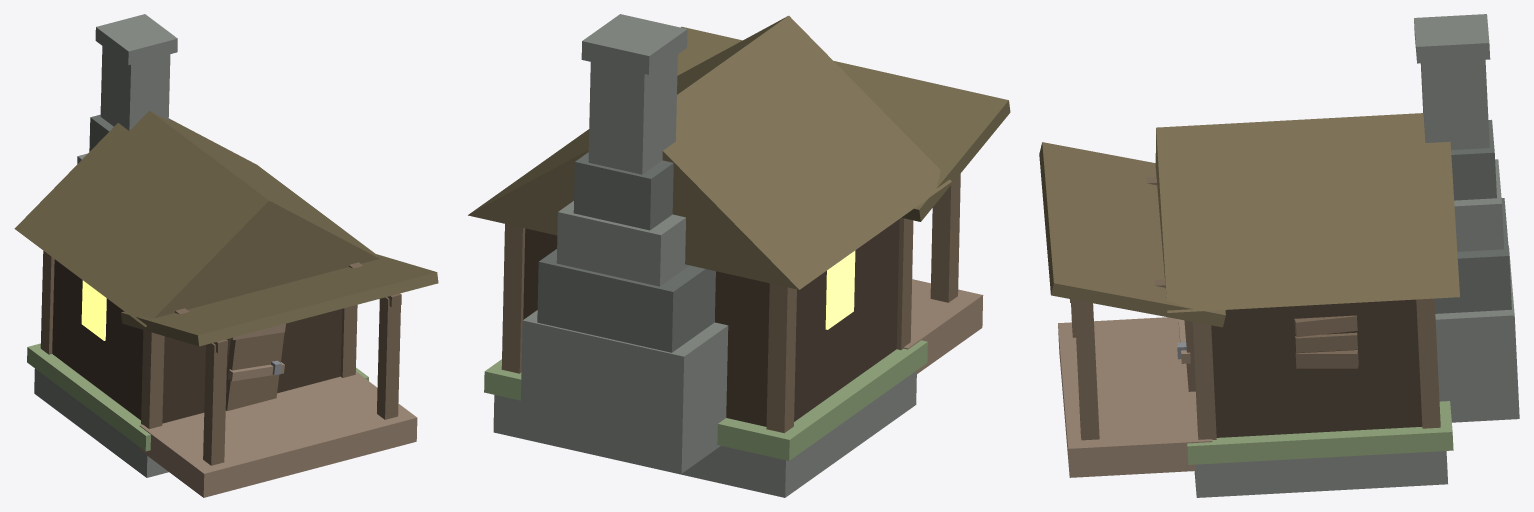
File: cottage.fbx
The picture shows the model from 3 angles, left to right: view 1: azimuth 30°, elevation 25°; view 2: azimuth 150°, elevation 25°; view 3: azimuth 270°, elevation 25°; orthographic projection. The views are drawn at different scales.
Visible parts, largest first — view 1: cottage; view 2: cottage; view 3: cottage.
Part boxes in pixels (box(x1,y1,x2,y2)): cottage: box(14, 14, 438, 497); cottage: box(468, 14, 1010, 497); cottage: box(1039, 14, 1519, 497).
Size of the model in its own units: 153 by 194 by 210.
